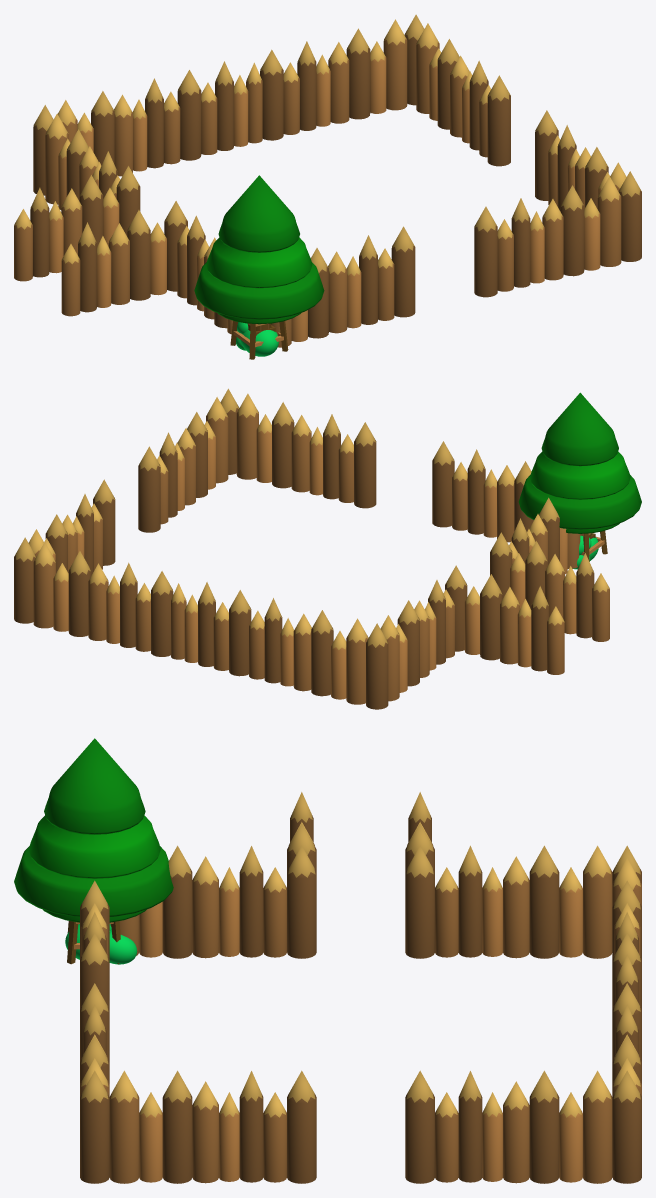
File: props.glb
3 views of the same model, one above another, from view 1: azimuth 30°, elevation 25°; view 2: azimuth 150°, elevation 25°; view 3: azimuth 270°, elevation 25° (orthographic). The views are drawn at different scales.
Visible parts, largest first — view 1: Palisade_Wall, TreeLarge.Object, Palisade_Side_Wall, Palisade_Side_Wall.001, Palisade_Wall_Block, Bush1.Object, ArcherTower.Object; view 2: Palisade_Wall, TreeLarge.Object, Palisade_Side_Wall.001, Palisade_Side_Wall, Palisade_Wall_Block; view 3: Palisade_Wall, TreeLarge.Object, Palisade_Side_Wall.001, Palisade_Side_Wall, Bush1.Object, Palisade_Wall_Block.
Part boxes in pixels (<box>): Palisade_Wall: <box>33,14,641,347</box>; TreeLarge.Object: <box>194,175,324,331</box>; Palisade_Side_Wall: <box>61,210,166,316</box>; Palisade_Side_Wall.001: <box>14,175,119,281</box>; Palisade_Wall_Block: <box>201,61,262,154</box>; Bush1.Object: <box>236,322,278,356</box>; ArcherTower.Object: <box>230,320,288,359</box>; Palisade_Wall: <box>14,388,591,709</box>; TreeLarge.Object: <box>518,392,641,537</box>; Palisade_Side_Wall.001: <box>464,574,564,674</box>; Palisade_Side_Wall: <box>510,541,609,641</box>; Palisade_Wall_Block: <box>171,582,228,670</box>; Palisade_Wall: <box>80,845,641,1183</box>; TreeLarge.Object: <box>14,738,173,916</box>; Palisade_Side_Wall.001: <box>405,792,434,871</box>; Palisade_Side_Wall: <box>287,792,316,871</box>; Bush1.Object: <box>65,924,137,964</box>; Palisade_Wall_Block: <box>615,954,638,1003</box>.
Bounding box in the file's own units: 24 × 8.3 × 21.23.
